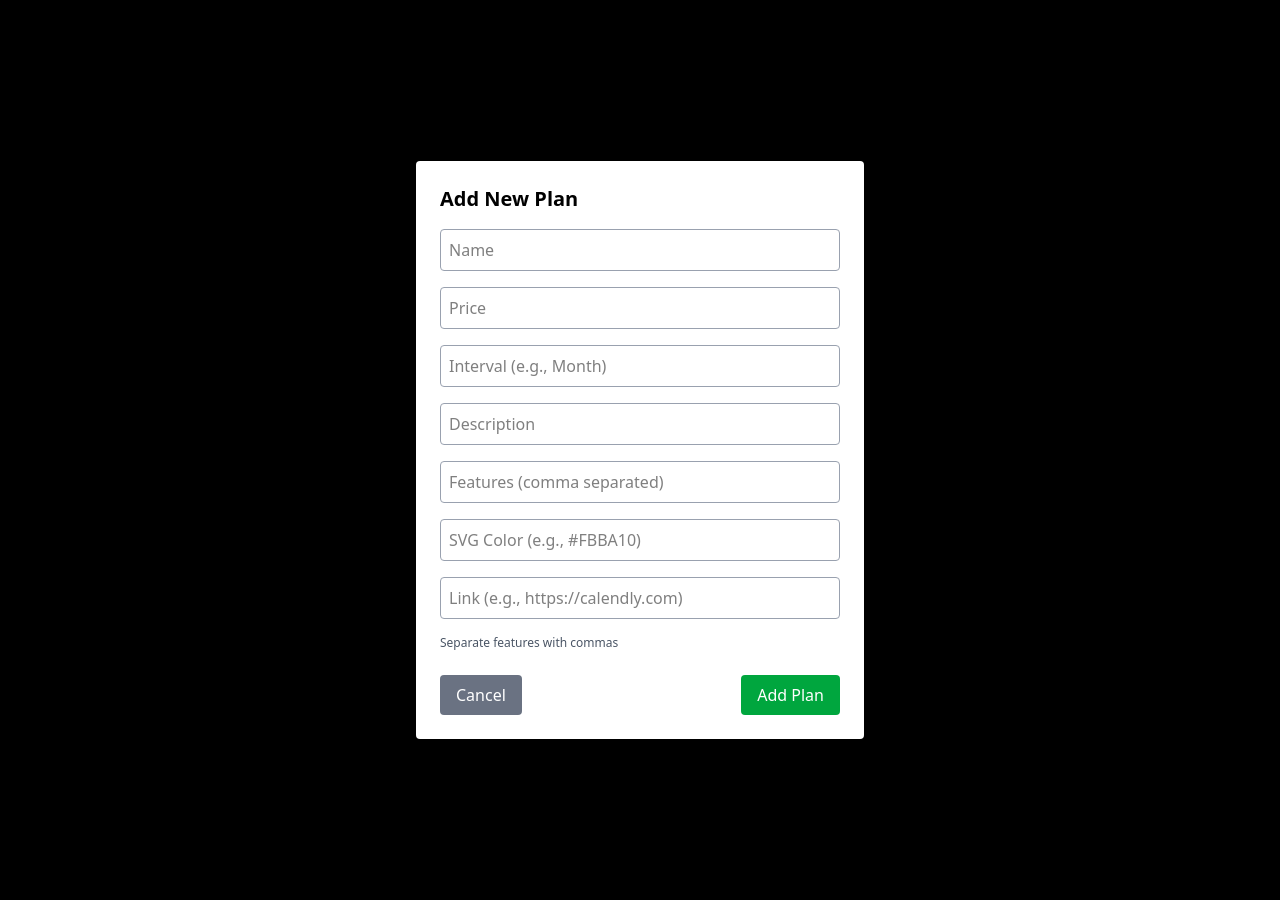
Test: AddPlanModal › shows validation errors if submitted with empty fields
The width and height of the screenshot is (1280, 900).
Click the button "Add Plan" at [791, 695], box [741,675,840,715]
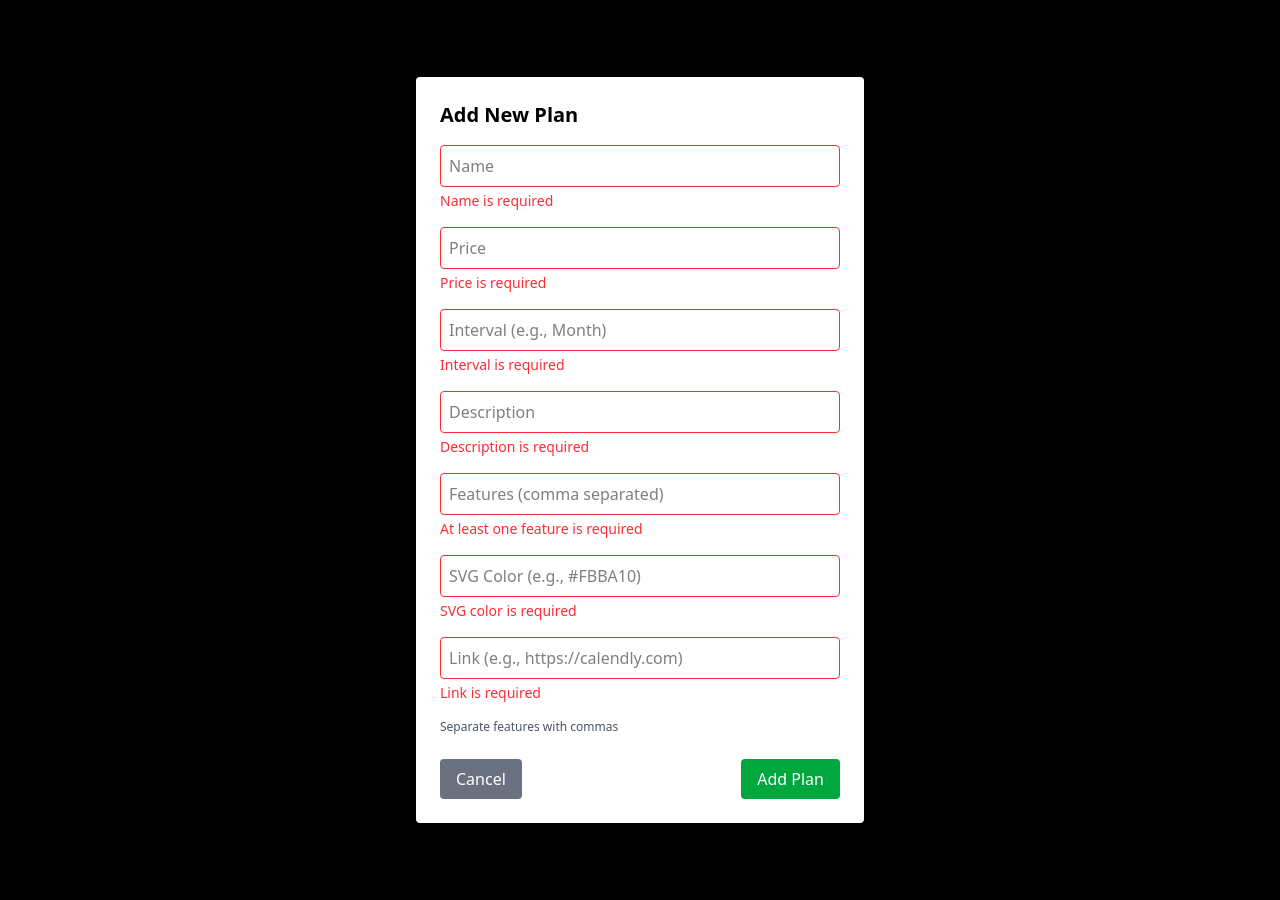
Check: the text "Name is required" is shown, box [440,191,553,210]
Check: the text "Price is required" is shown, box [440,273,546,292]
Check: the text "Interval is required" is shown, box [440,355,565,374]
